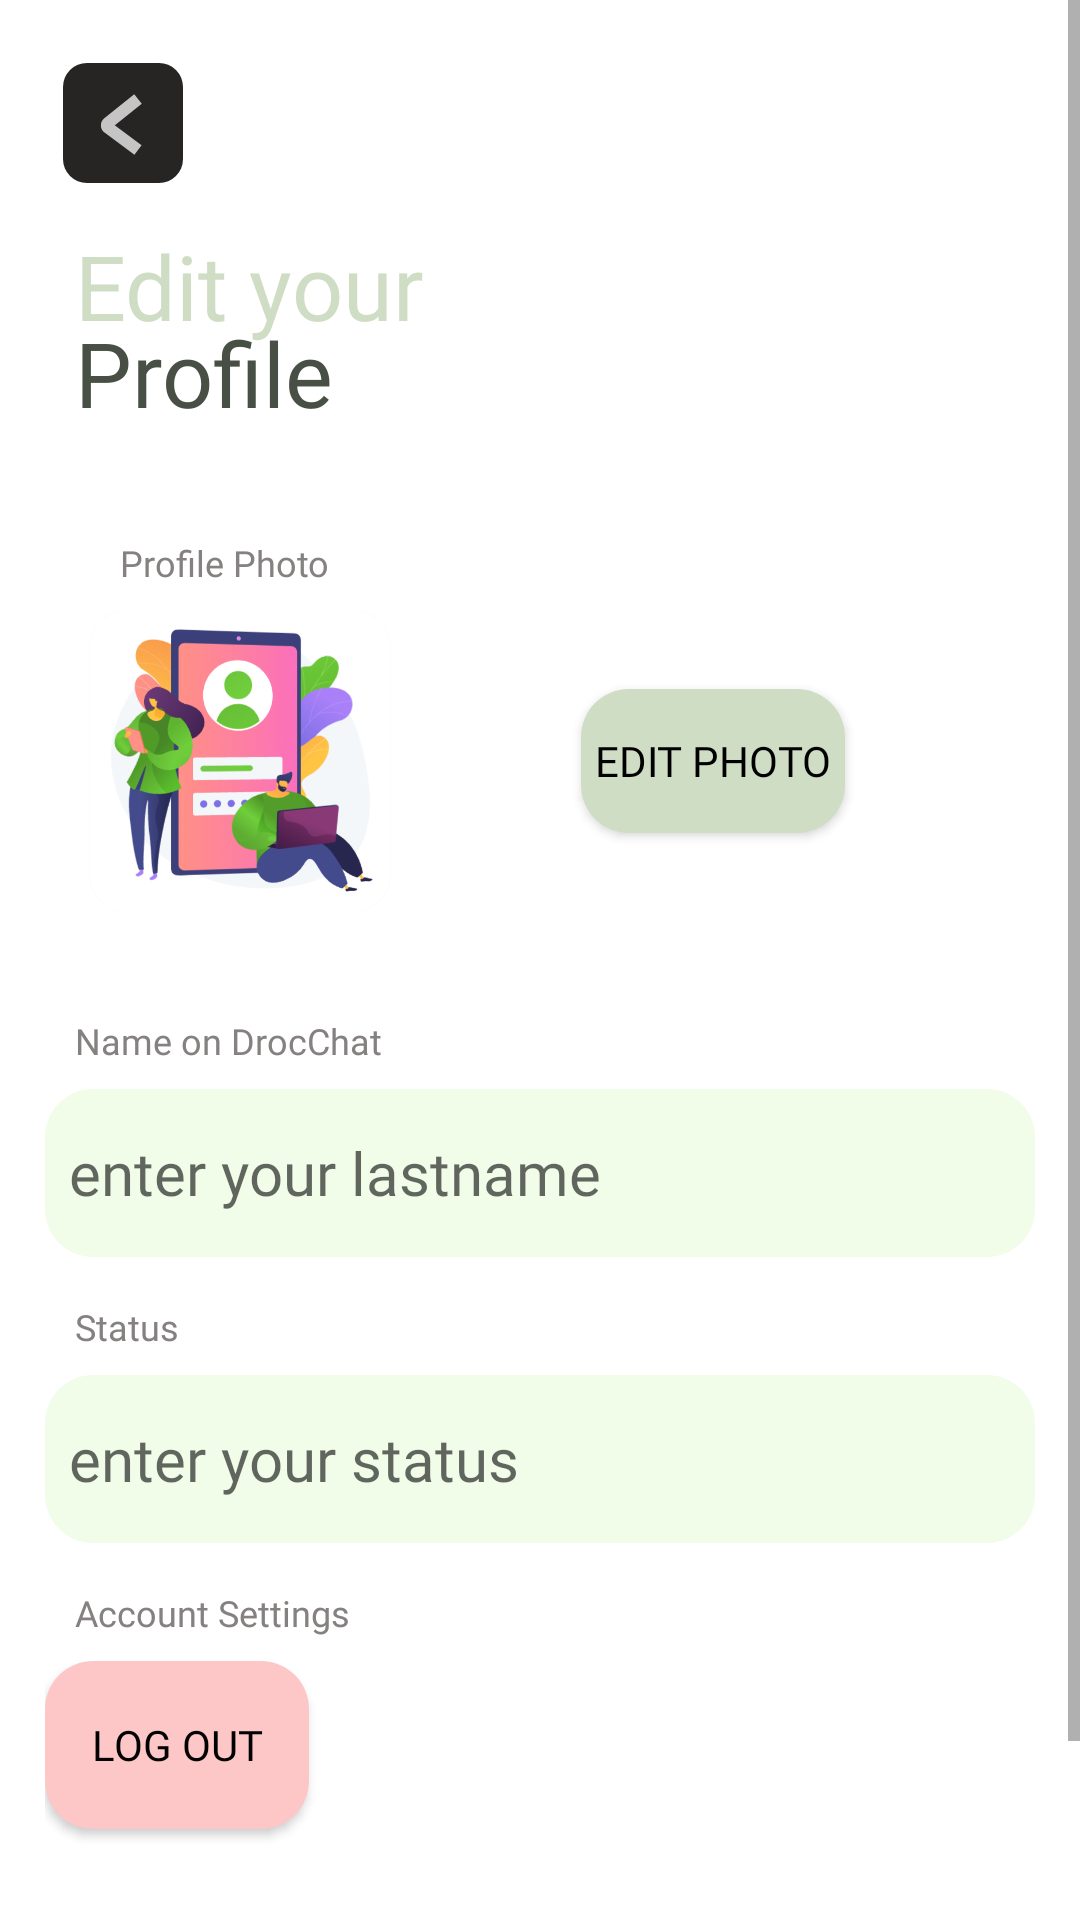

Named icons in this screenshot (1080x1920) and their centers, (x,y):
back rectangled: (123,123)
login main: (243,760)
